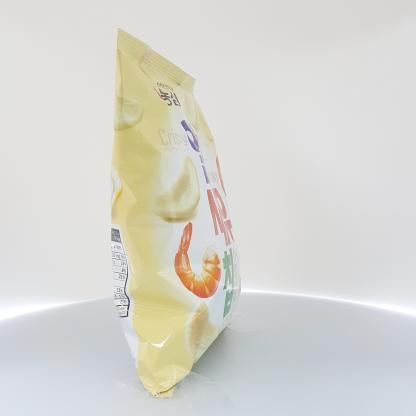Plastic Packaging: (95, 20, 255, 400)
